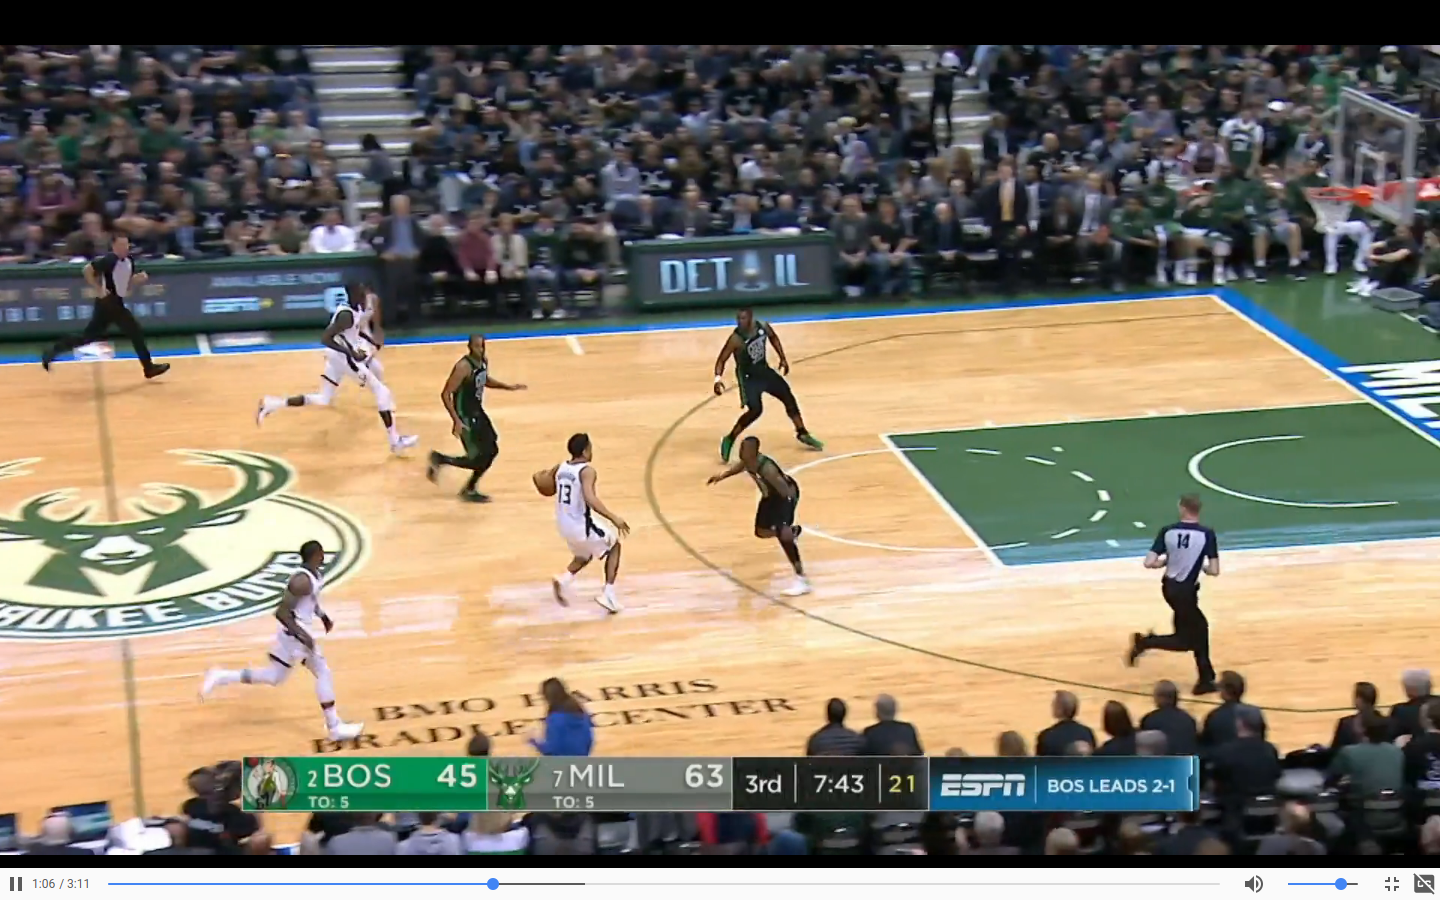basketball: (527, 465, 561, 499)
basketball player: (198, 540, 370, 754), (252, 271, 424, 462), (705, 306, 827, 471), (712, 429, 822, 608), (421, 331, 530, 505), (548, 426, 632, 625)
referee: (1112, 483, 1239, 699), (36, 228, 175, 386)
